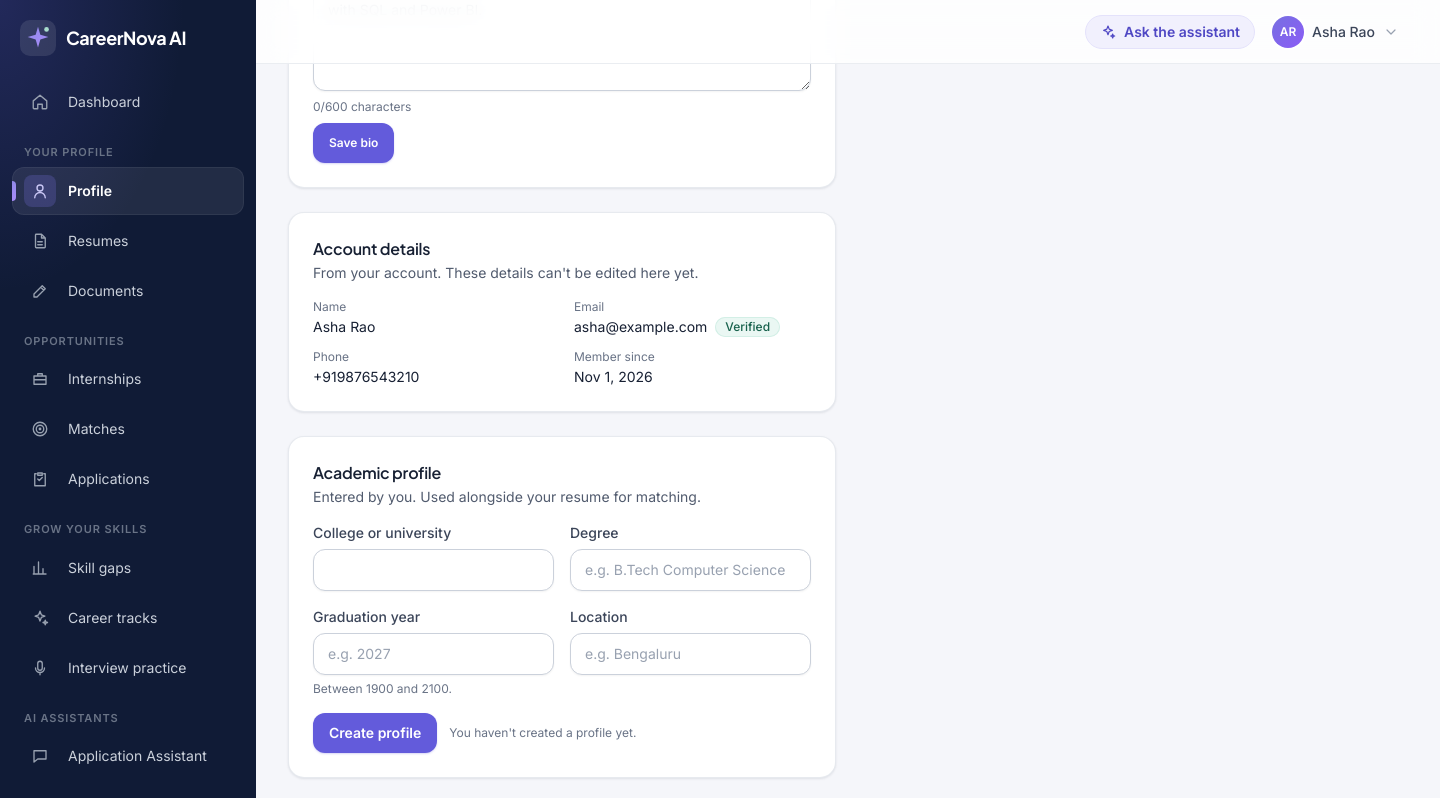
Test: Profile: new student › reloads the profile if one already exists (409)
(page scrolled)
In the field labelled "Degree": coordinates (690, 570) [570,549,811,591], type "MSc"
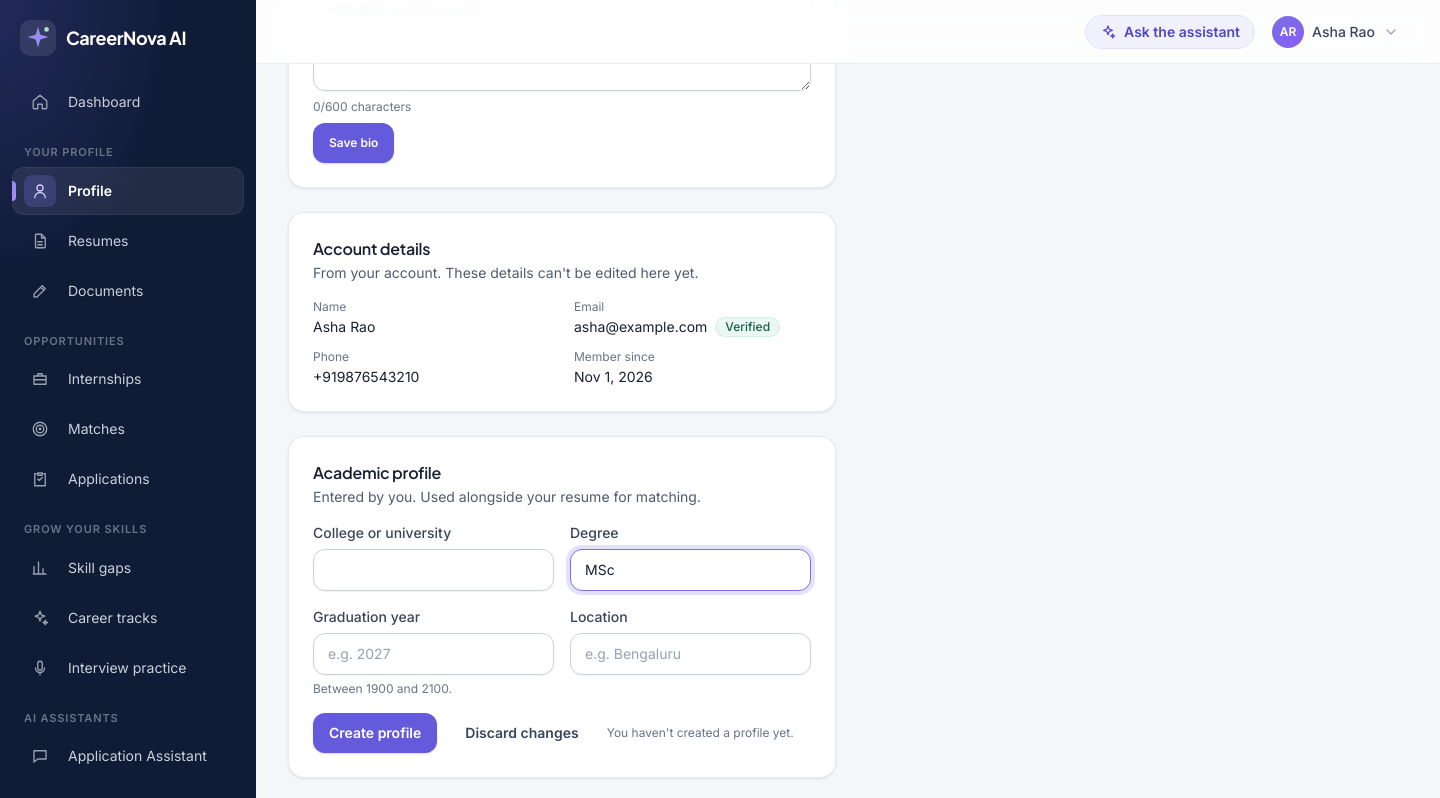
Click the button "Create profile": coordinates (375, 733) [313,713,437,753]
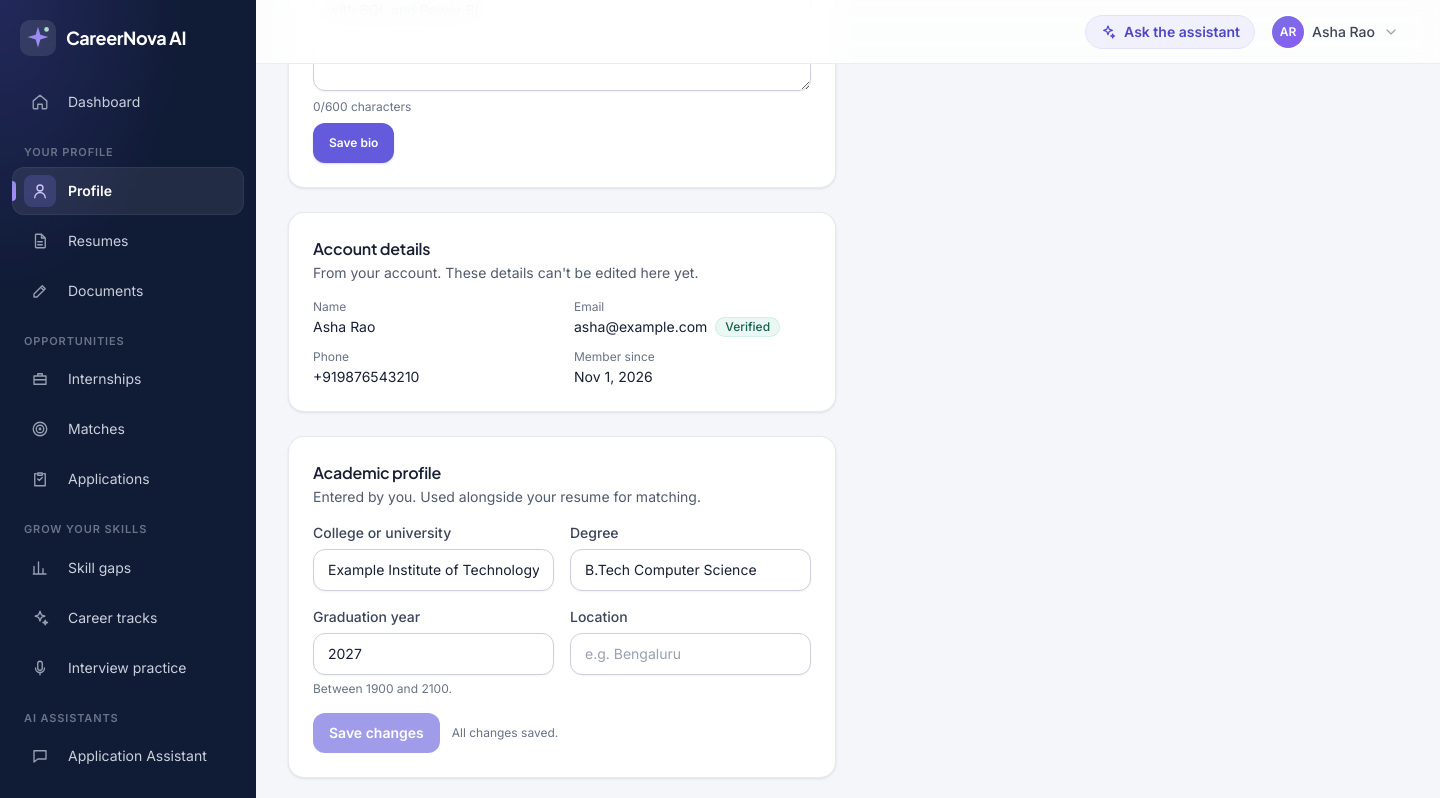
Expected: the field showing "Example Institute of Technology" is shown, [313,549,554,591]
